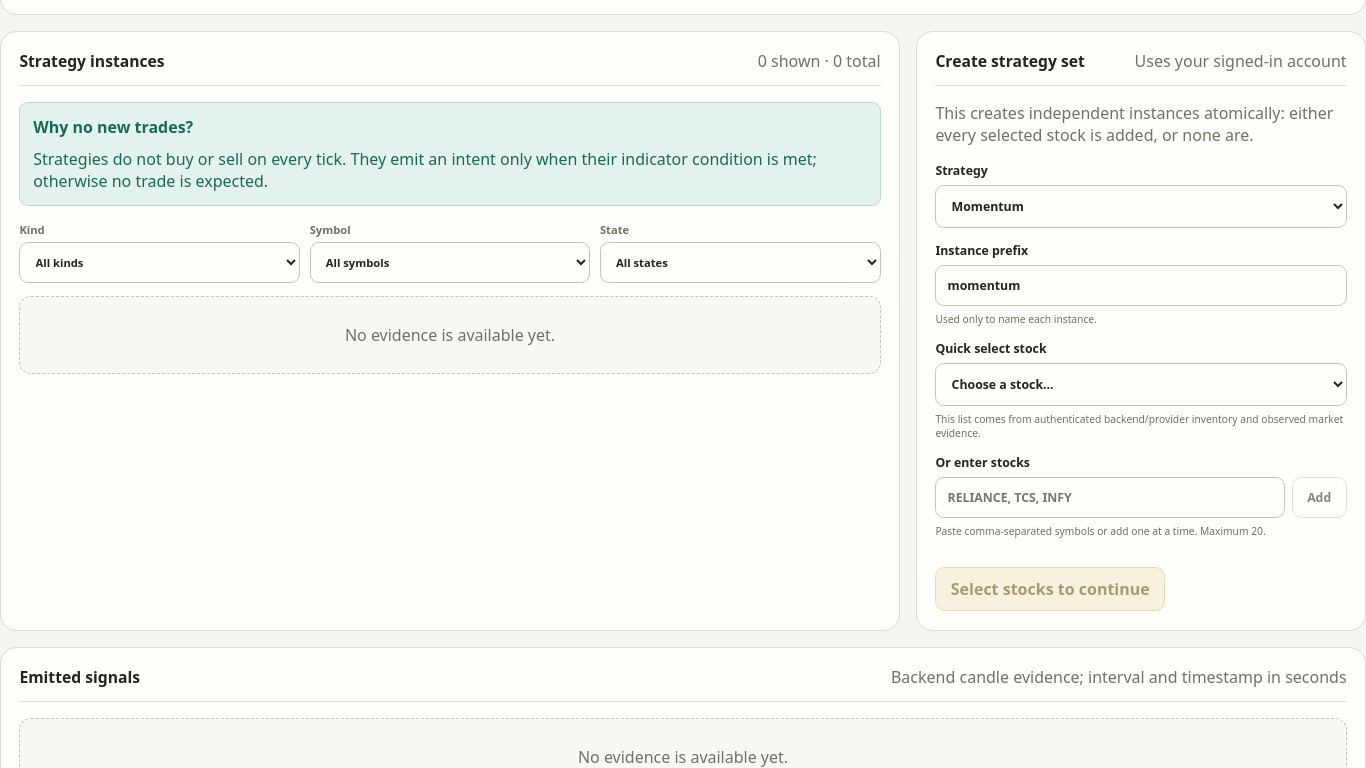
Test: multi-stock strategy creation › adds stocks from a clearly labeled quick-select dropdown
The width and height of the screenshot is (1366, 768).
(page scrolled)
Select "RELIANCE" in the dropdown labelled "Quick select stock": (1141, 384) [935,363,1347,406]
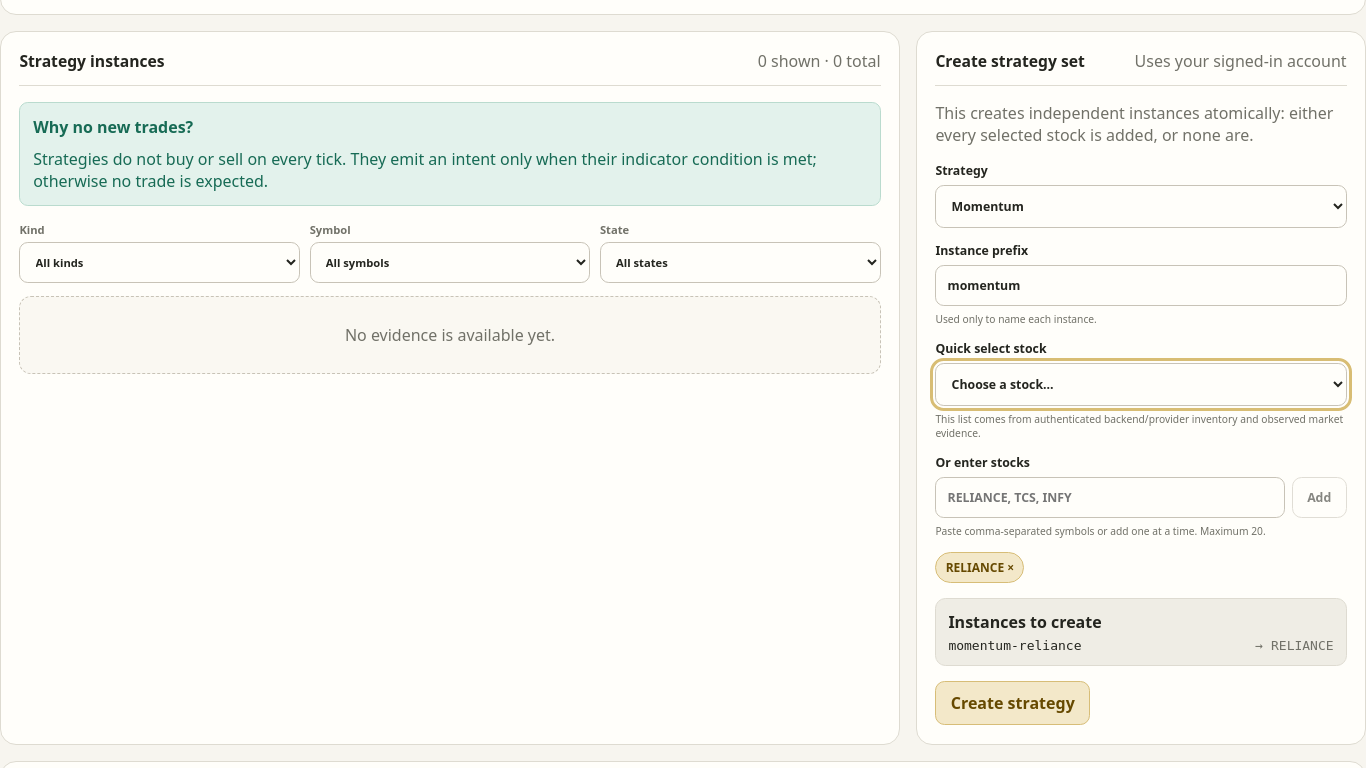
expect the text "authenticated backend/provider inventory" is shown: met, box [935,412,1343,440]
expect the button with aria-label "Remove RELIANCE" is shown: met, box [935,552,1024,583]
expect the text "momentum-reliance → RELIANCE" is shown: met, box [948,638,1334,653]
